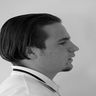ear: (16, 36, 44, 66)
